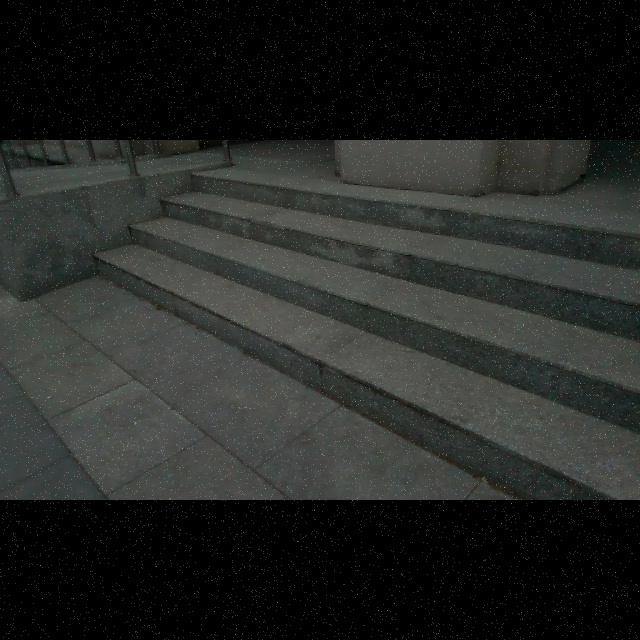stair: (122, 175, 630, 488)
